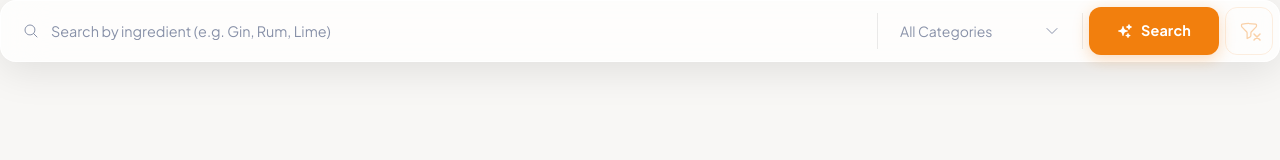
Test: SearchForm › Clear button › is enabled after typing in the ingredient input
This screenshot has width=1280, height=160.
In the field with placeholder "Search by ingredient (e.g. Gin, Rum, Lime)": coordinates (439, 31) [7,7,871,55], type "Gin"
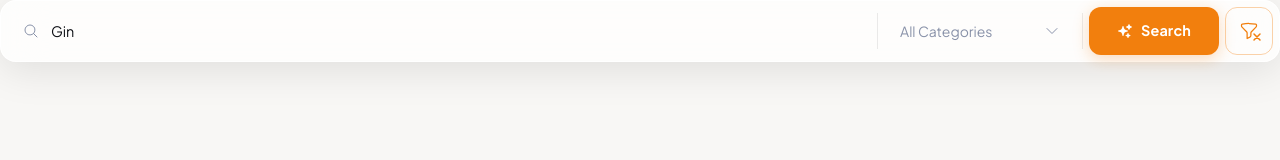
Check: the button named "clear search filters" is enabled, box [1225,7,1273,55]
